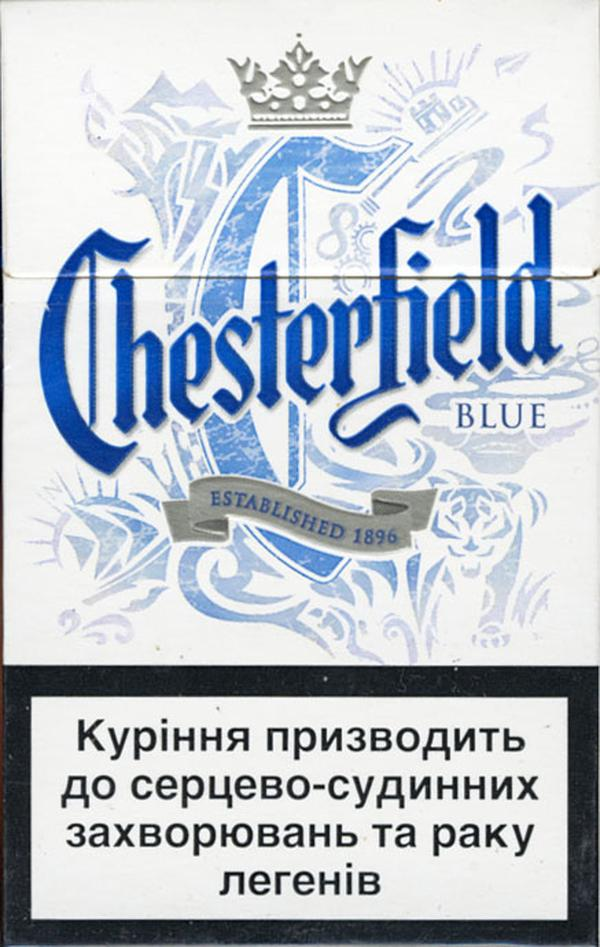chesterfield_blue: (3, 1, 597, 947)
